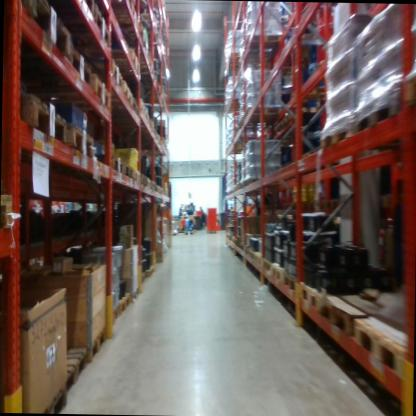pallet: (8, 0, 74, 62), (354, 312, 409, 381), (328, 280, 389, 340), (87, 7, 125, 99), (10, 89, 73, 140), (352, 91, 398, 145), (300, 270, 346, 318), (318, 119, 385, 150), (52, 47, 99, 89), (67, 115, 101, 162), (56, 345, 87, 393), (279, 28, 323, 57), (225, 48, 267, 75), (243, 29, 283, 54), (241, 104, 286, 125), (294, 80, 329, 105), (99, 144, 123, 180), (92, 72, 114, 111), (401, 66, 416, 118), (281, 269, 309, 296), (84, 330, 105, 365), (45, 383, 68, 411), (110, 2, 140, 22), (138, 14, 157, 41), (226, 138, 248, 158), (129, 48, 144, 76), (118, 80, 134, 106), (74, 2, 95, 21), (271, 261, 287, 284), (116, 291, 132, 313), (120, 158, 131, 185), (107, 305, 118, 329), (253, 244, 263, 266), (132, 104, 143, 120), (264, 254, 272, 275), (131, 168, 140, 184), (141, 265, 153, 276), (138, 174, 149, 184)
